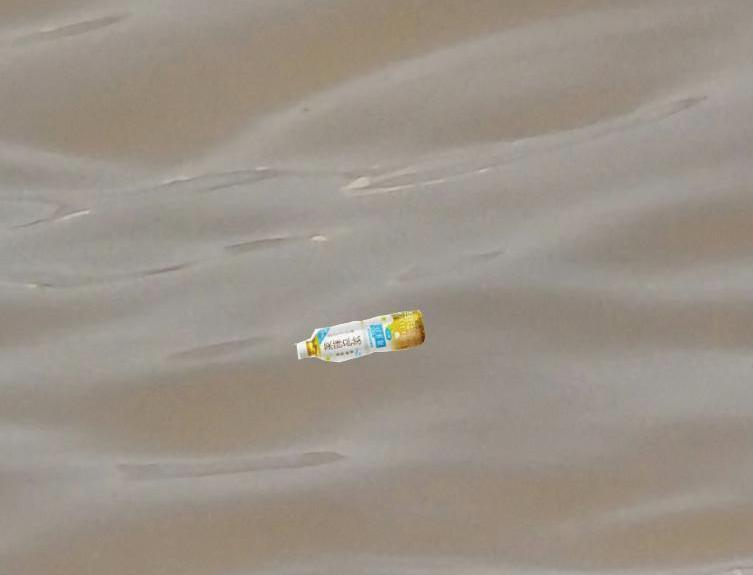Plastic: (289, 306, 428, 365)
